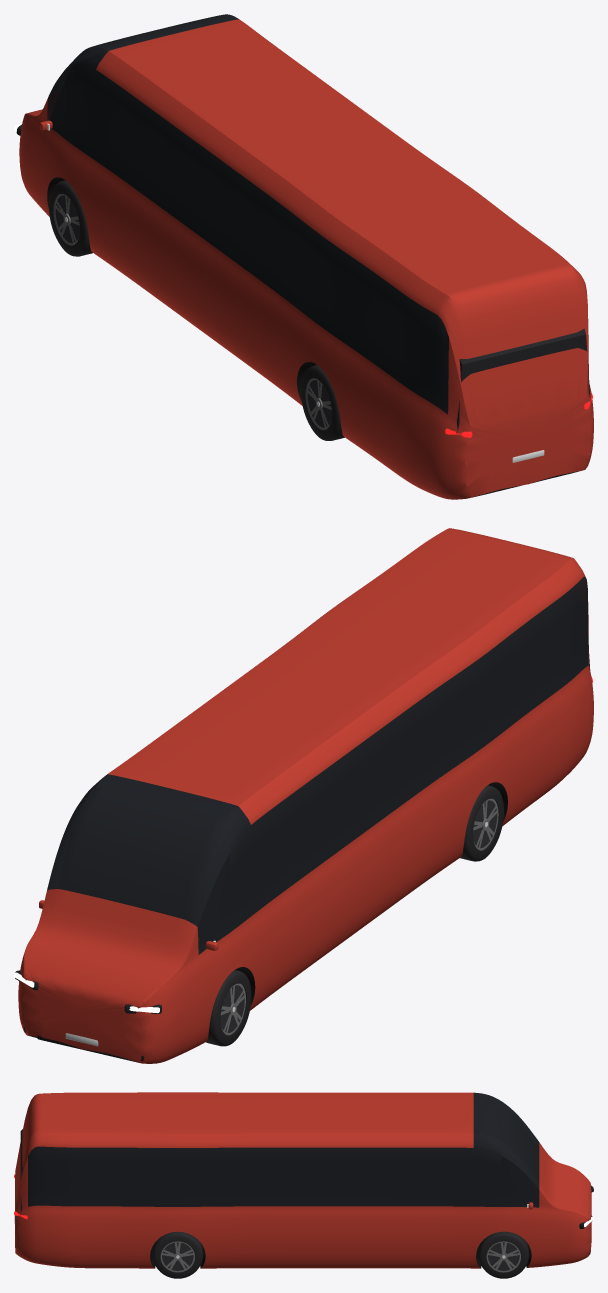
File: traffic_bus.glb
3 renders of one model, top to bottom at view 1: azimuth 30°, elevation 25°; view 2: azimuth 150°, elevation 25°; view 3: azimuth 270°, elevation 25°, orthographic. The views are drawn at different scales.
Parts seen in each view (by area): view 1: Body, Wheel_FL, Wheel_RL; view 2: Body, Wheel_FL, Wheel_RL; view 3: Body, Wheel_FR, Wheel_RR.
Part boxes in pixels (bbox=[...]): Body: bbox=[14, 14, 593, 499]; Wheel_FL: bbox=[49, 180, 92, 256]; Wheel_RL: bbox=[301, 365, 344, 440]; Body: bbox=[14, 528, 593, 1063]; Wheel_FL: bbox=[206, 970, 251, 1046]; Wheel_RL: bbox=[460, 785, 503, 861]; Body: bbox=[14, 1092, 593, 1268]; Wheel_FR: bbox=[478, 1231, 528, 1278]; Wheel_RR: bbox=[152, 1231, 202, 1278].
Bounding box in the file's own units: 2.64 × 3.1 × 11.56.
